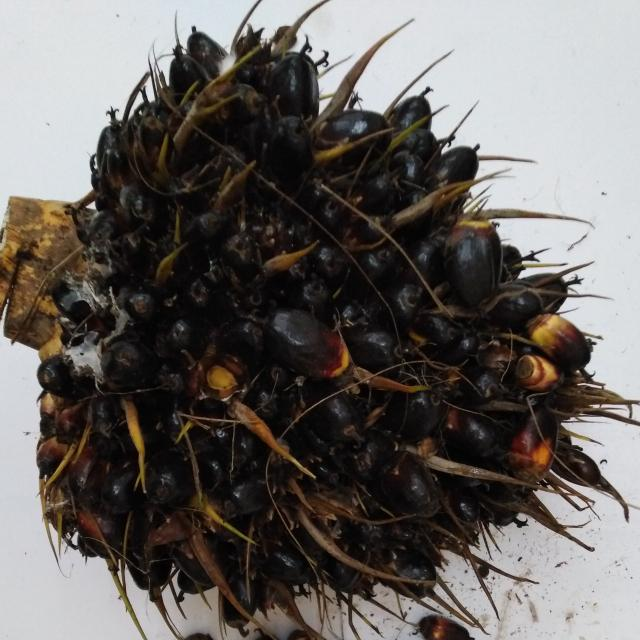FFB: (41, 62, 601, 594)
